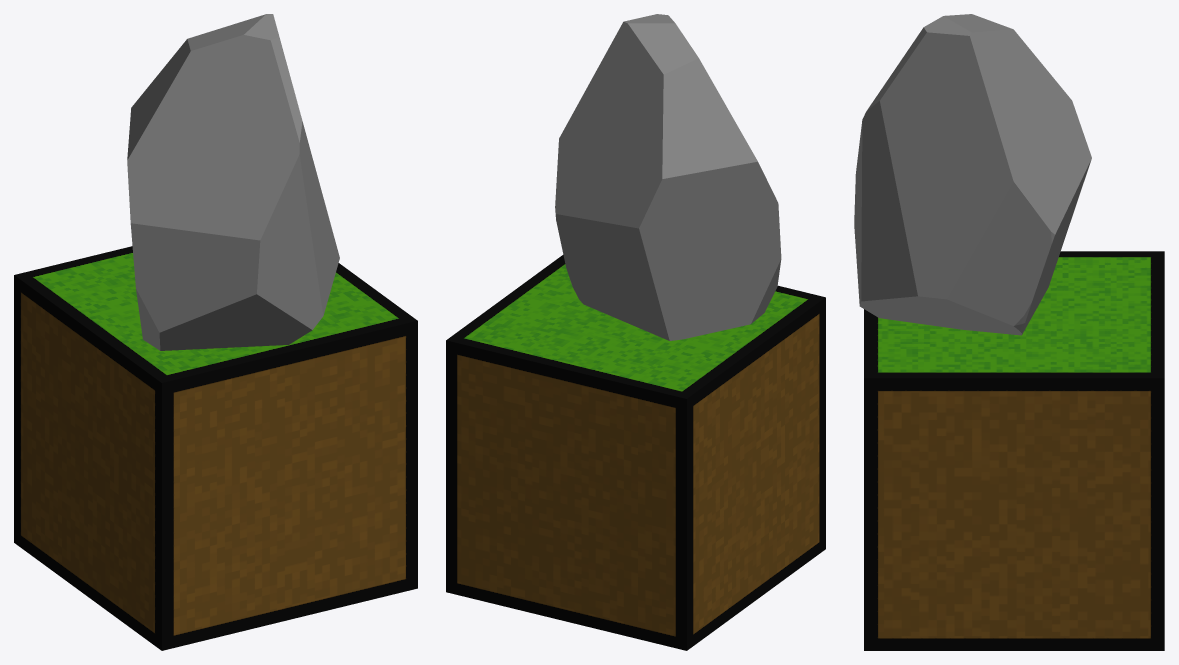
Rendered from HighRock.glb.
3 views of the same model, side by side, from view 1: azimuth 30°, elevation 25°; view 2: azimuth 150°, elevation 25°; view 3: azimuth 270°, elevation 25° (orthographic). The views are drawn at different scales.
Visible parts, largest first — view 1: Grass_v2Baked, Sphere.001; view 2: Grass_v2Baked, Sphere.001; view 3: Grass_v2Baked, Sphere.001.
Boxes of the visible parts, x1,y1,x2,y2 form: Grass_v2Baked: (14,246,417,650); Sphere.001: (127,14,339,350); Grass_v2Baked: (446,255,825,650); Sphere.001: (555,14,781,340); Grass_v2Baked: (864,251,1164,650); Sphere.001: (854,14,1091,335).
Size of the model in its own units: 0.98 by 2.05 by 1.01.
2 materials, 1 textured.
